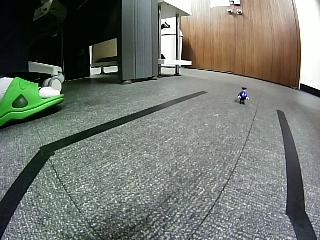person: (238, 87, 249, 105)
